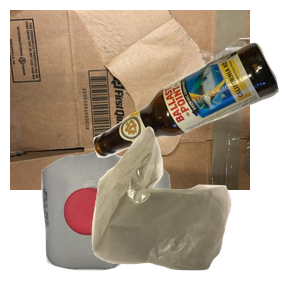cardboard: (10, 10, 250, 190)
glass: (91, 40, 300, 190)
plastic: (39, 149, 203, 300)
trash: (89, 124, 300, 300)
